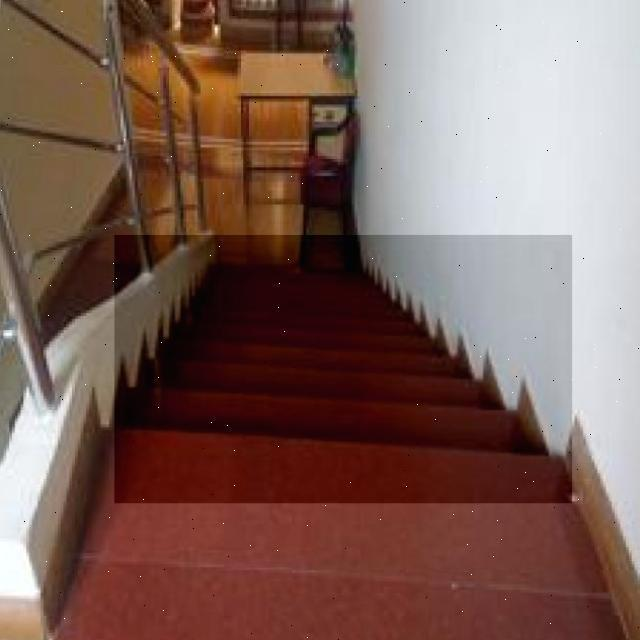stair: (114, 235, 572, 503)
